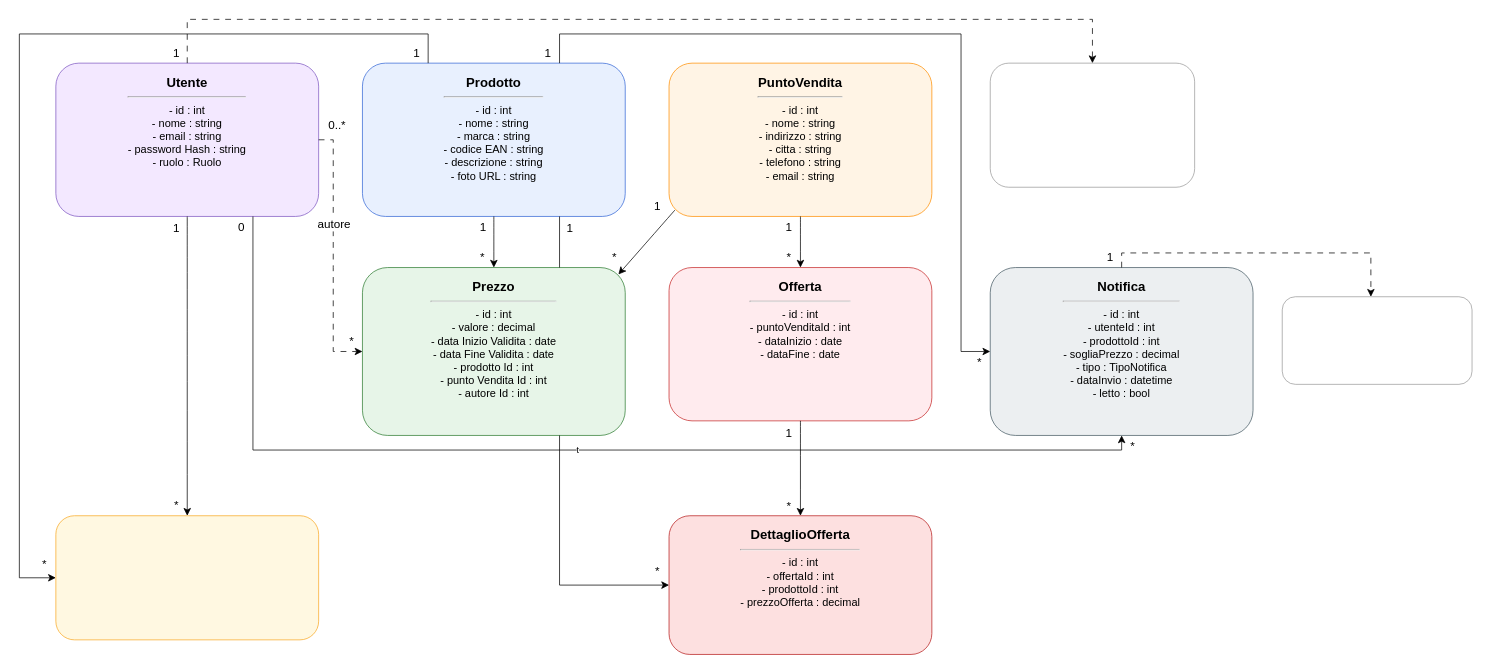
Image size: 1485x667. Some labels were removed from this diagram. The centre of each missing label's shape, as x and y in pixels:
"Ruolo (enum) - visitatore - utente - punto_vendita - azienda - admin" goes at [1092,124].
"TipoNotifica (enum) - email - push" goes at [1377,340].
"Watchlist - id : int - utenteId : int - prodottoId : int" goes at [187,577].
